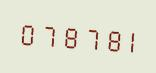eight: (58, 18, 77, 52), (98, 21, 117, 55)
one: (118, 22, 137, 57)
seven: (37, 17, 56, 51), (78, 20, 97, 54)
zero: (17, 15, 36, 50)
